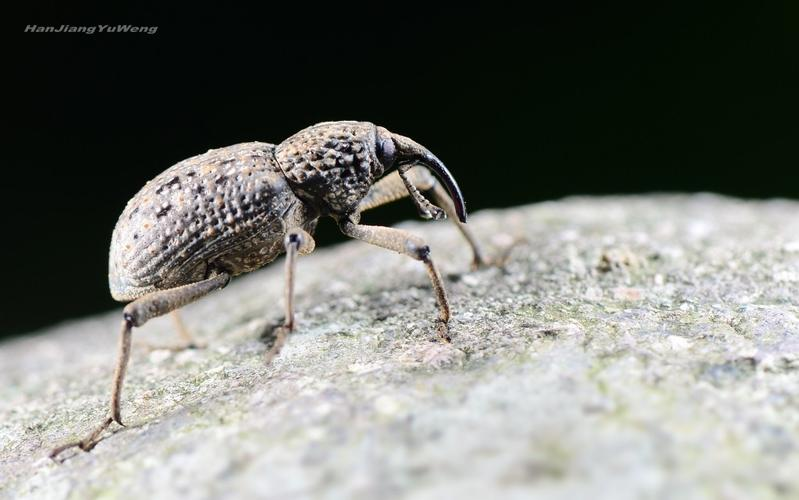Curculionidae: (49, 119, 484, 462)
